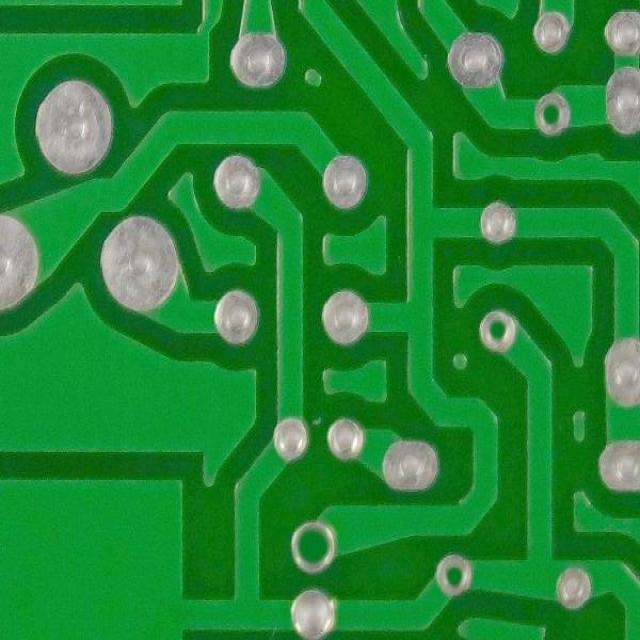missing hole: (287, 515, 340, 577), (434, 550, 475, 602), (530, 89, 572, 139), (477, 306, 520, 354)
